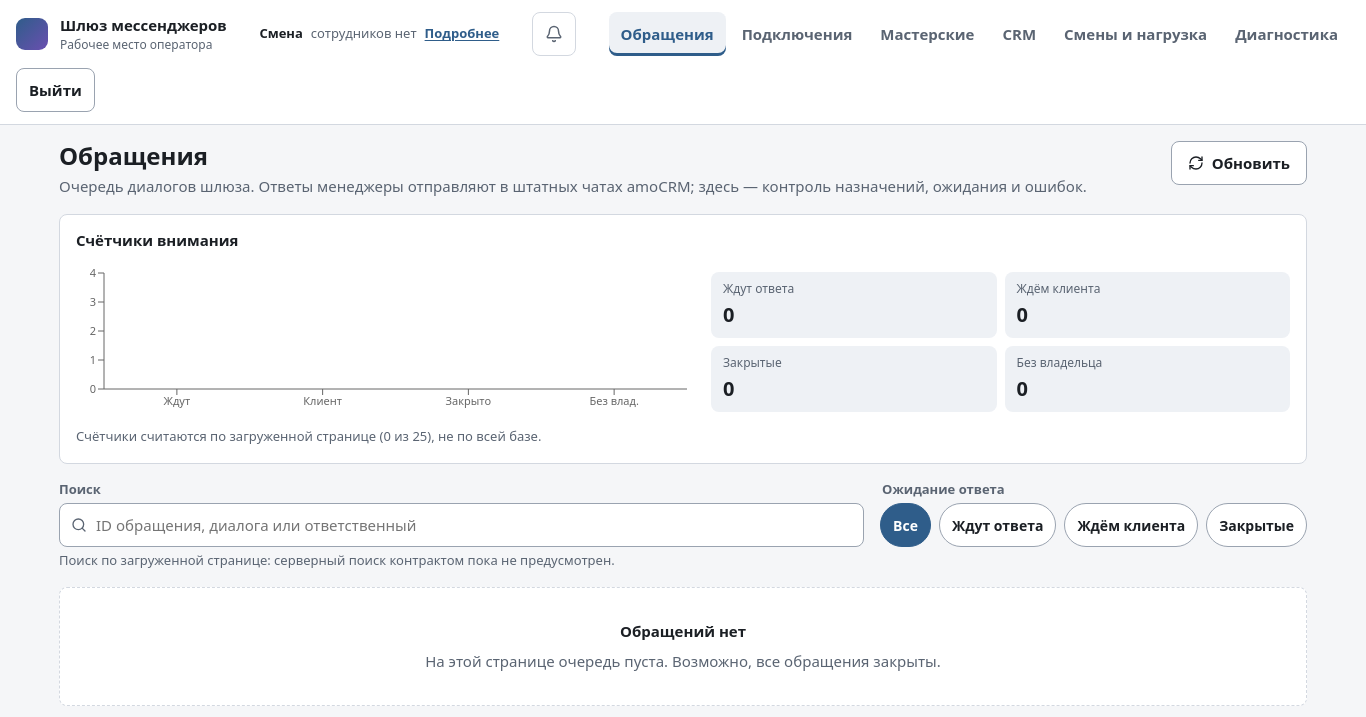
Test: оболочка приложения › переходит между разделами по ссылкам навигации
Expected: the heading "Обращения" is shown, [59,139,208,172]
Click the link "Подключения" at [797, 34], box [742,24,852,44]
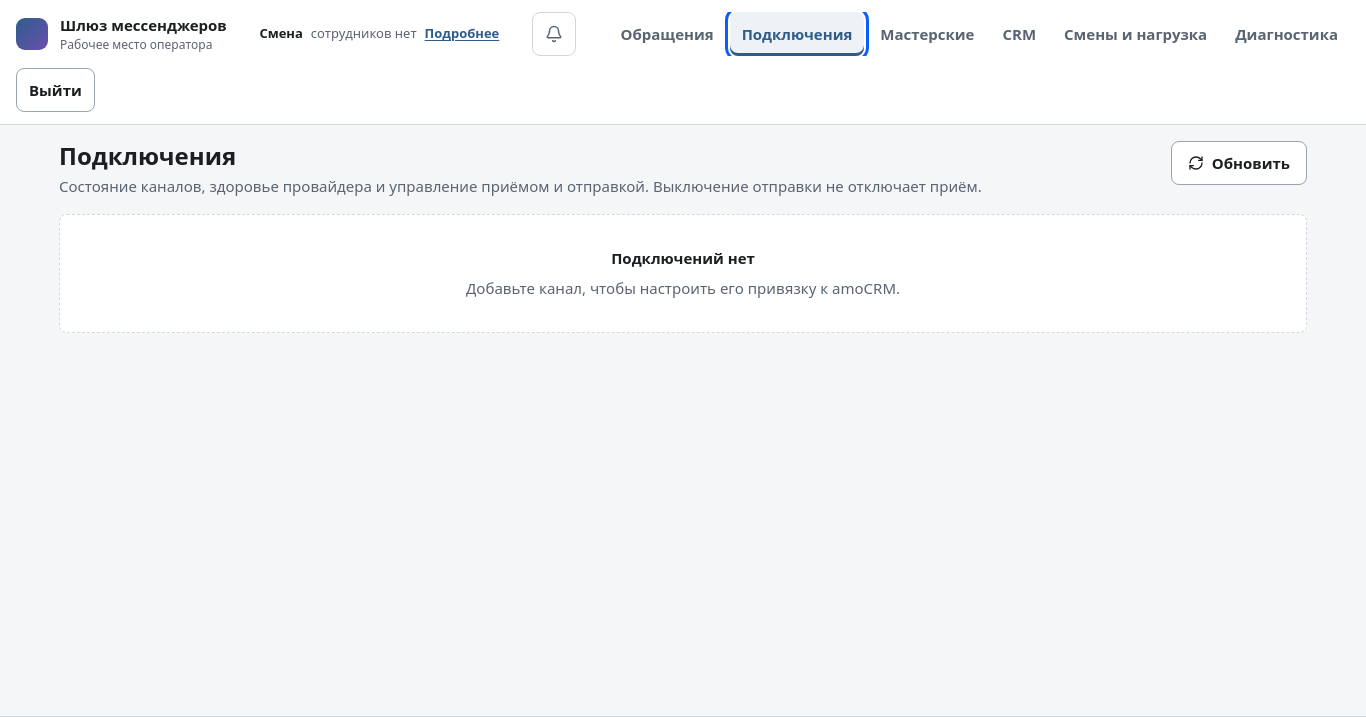
Now the heading "Подключения" is shown, box [59,139,236,172]
Click the link "Диагностика" at [1287, 34], box [1235,24,1338,44]
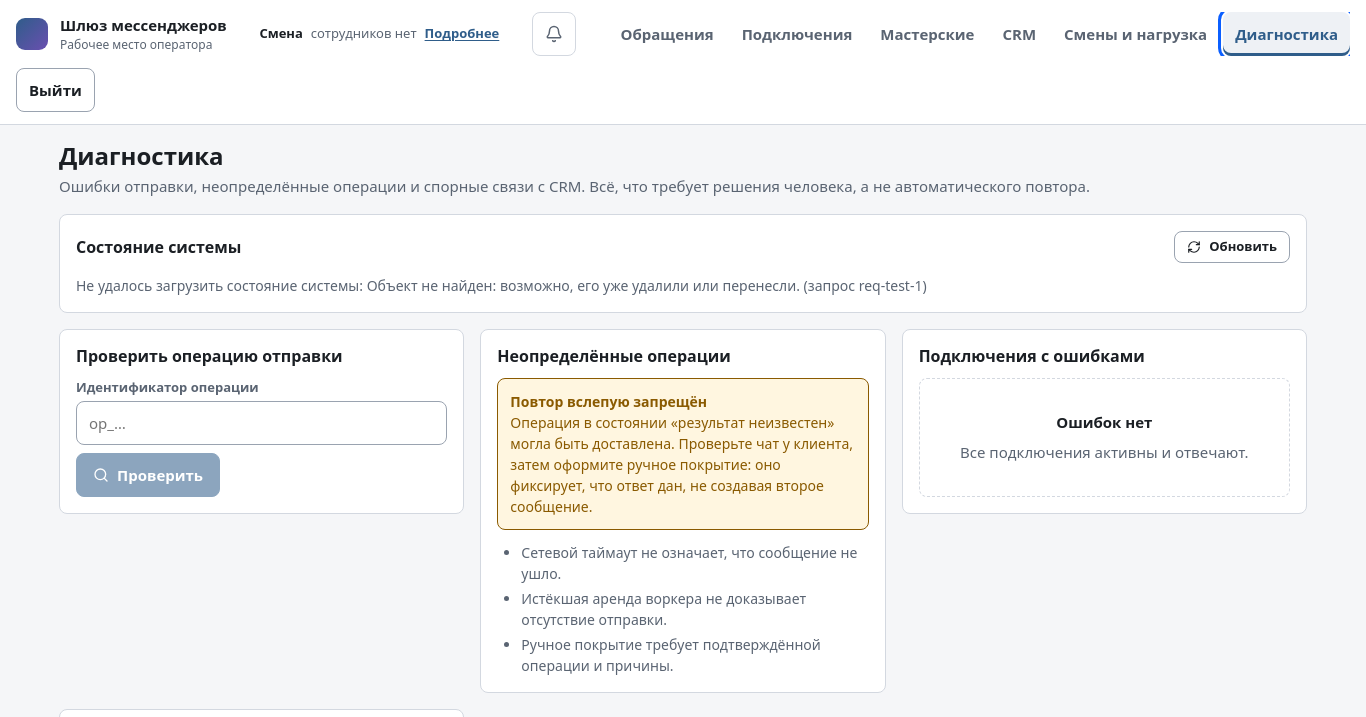
Now the heading "Диагностика" is shown, box [59,139,224,172]
Click the link "Мастерские" at [927, 34], box [880,24,974,44]
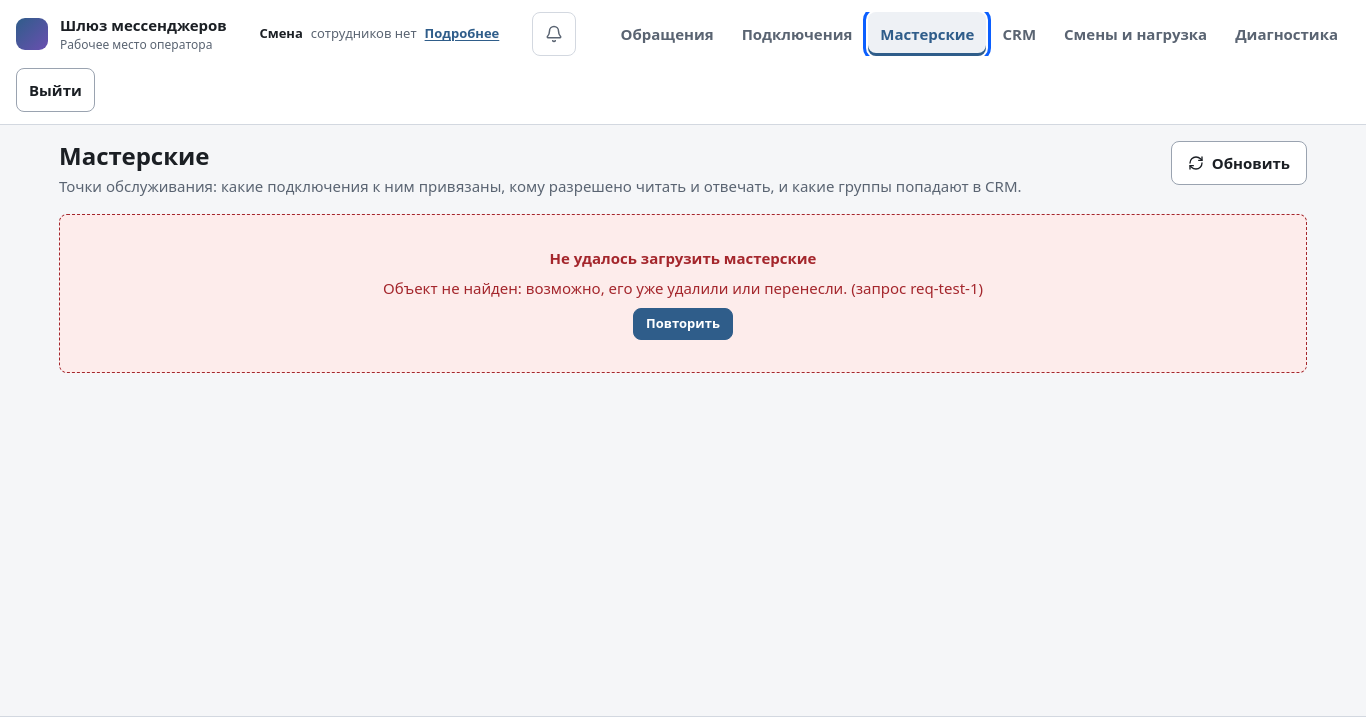
Now the heading "Мастерские" is shown, box [59,139,210,172]
Click the link "CRM" at [1019, 34], box [1002,24,1036,44]
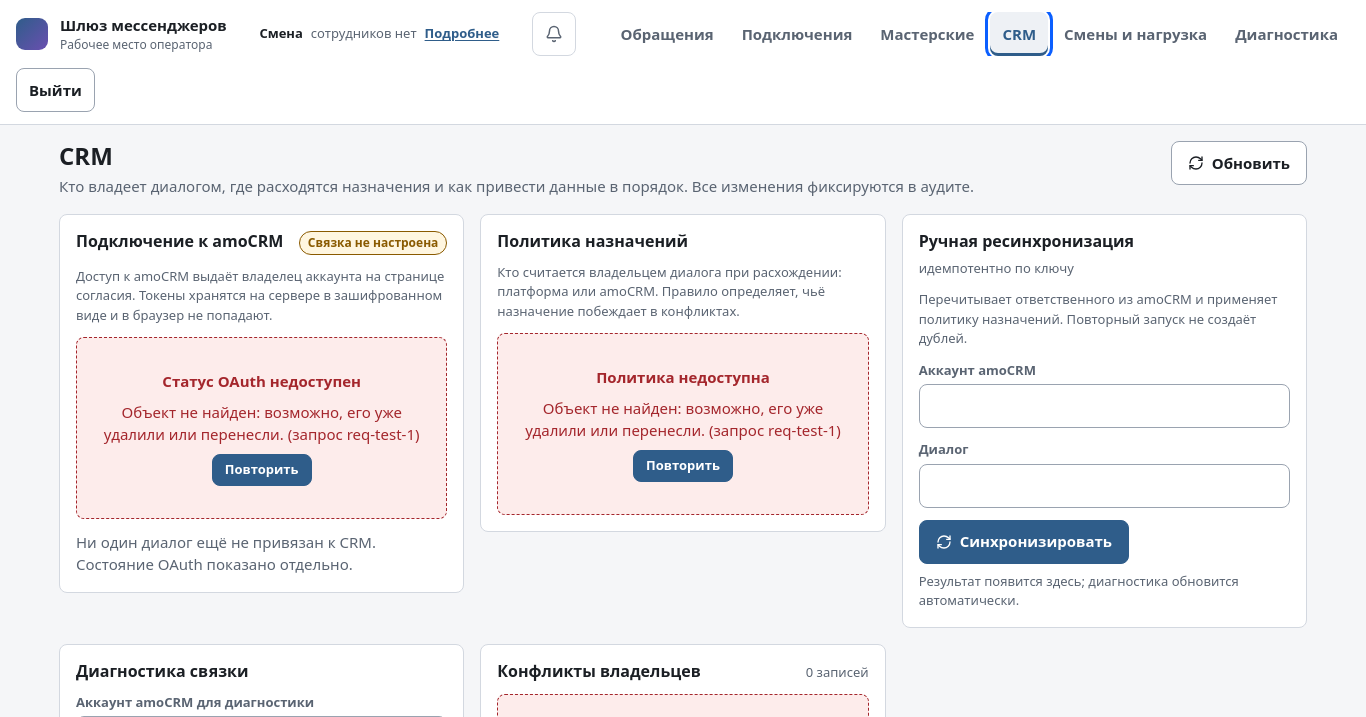
Now the heading "CRM" is shown, box [59,139,113,172]
Click the link "Смены и нагрузка" at [1136, 34], box [1064,24,1207,44]
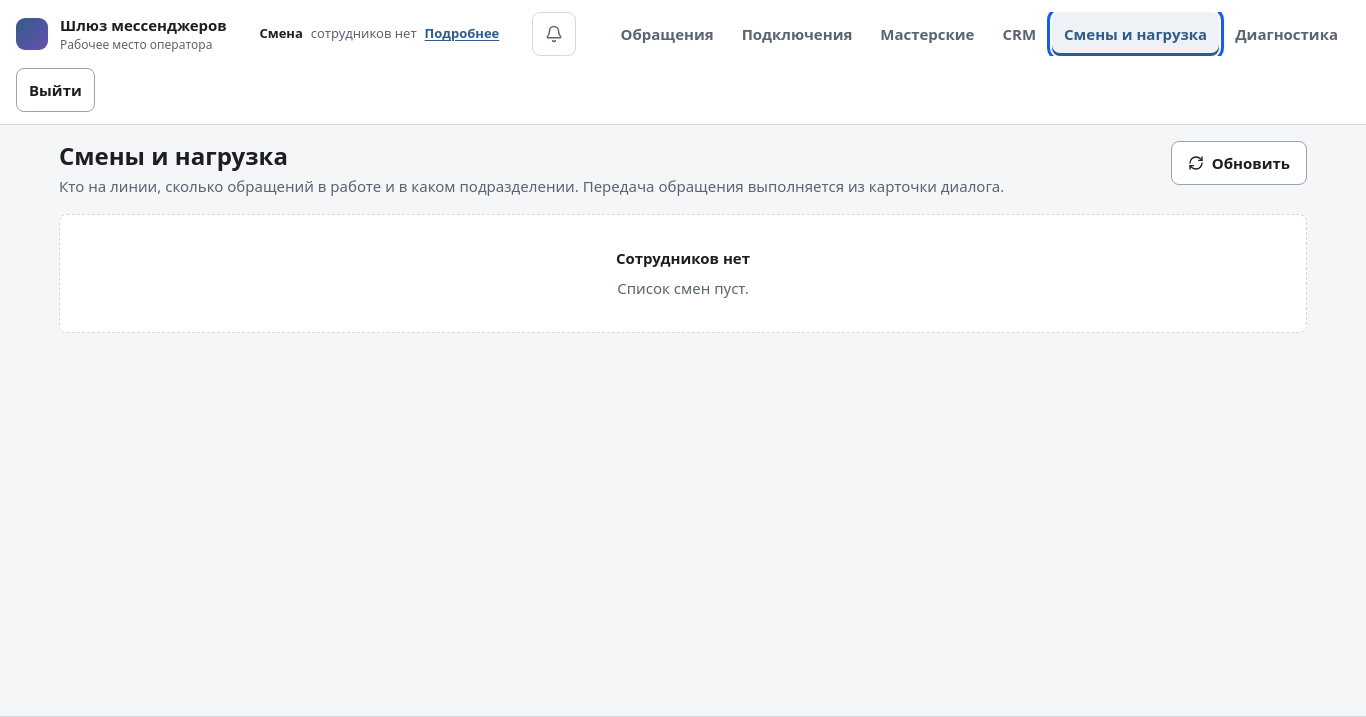
Now the heading "Смены и нагрузка" is shown, box [59,139,288,172]
